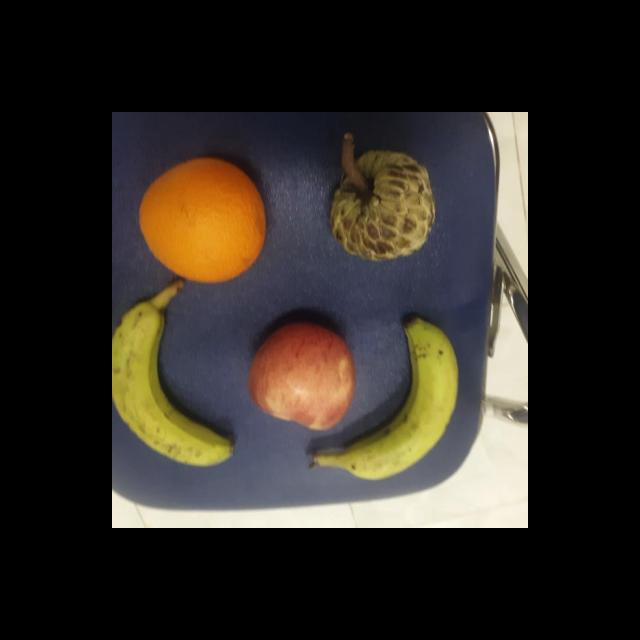Sakya fruit: (329, 150, 435, 263)
apple: (248, 320, 356, 432)
banana: (307, 314, 459, 481), (112, 286, 234, 468)
orange: (136, 158, 268, 284)
